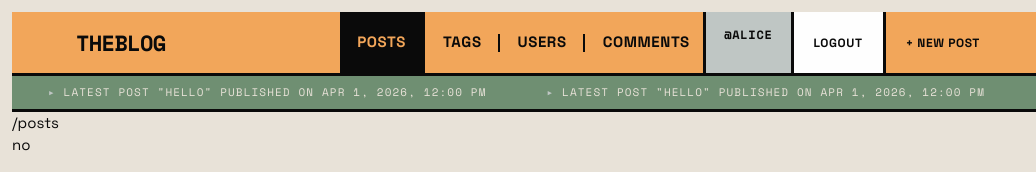
Test: Navbar › applies openCreate when + New Post is clicked while already on /posts
Expected: the text with test id "echo-open-create" reads "no", x1=12 y1=135 x2=30 y2=154
Click the link "+ New Post" at [941, 42], box x1=883 y1=12 x2=1000 y2=73
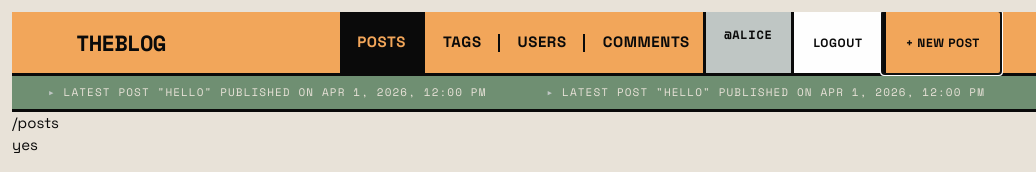
Expected: the text with test id "echo-open-create" reads "yes", x1=12 y1=135 x2=38 y2=154
